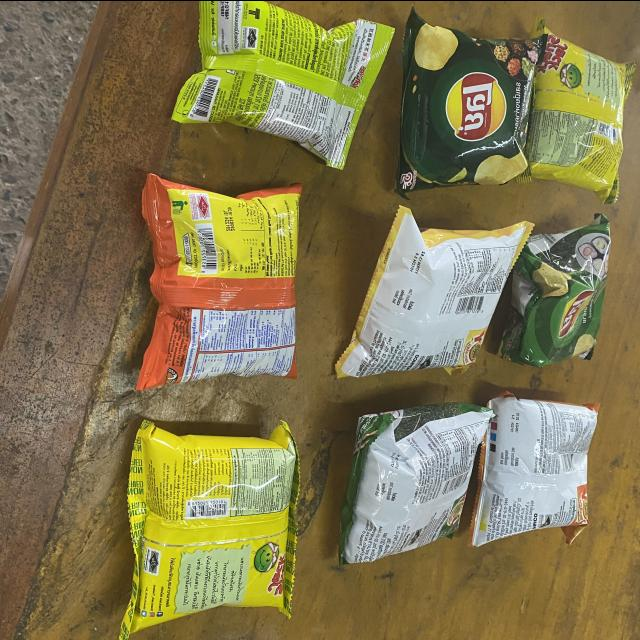plastik: (119, 419, 299, 640), (173, 0, 394, 167), (138, 174, 301, 389), (336, 206, 533, 376), (397, 8, 540, 196), (340, 402, 494, 562), (469, 393, 598, 545), (526, 28, 636, 203), (497, 213, 611, 365)
